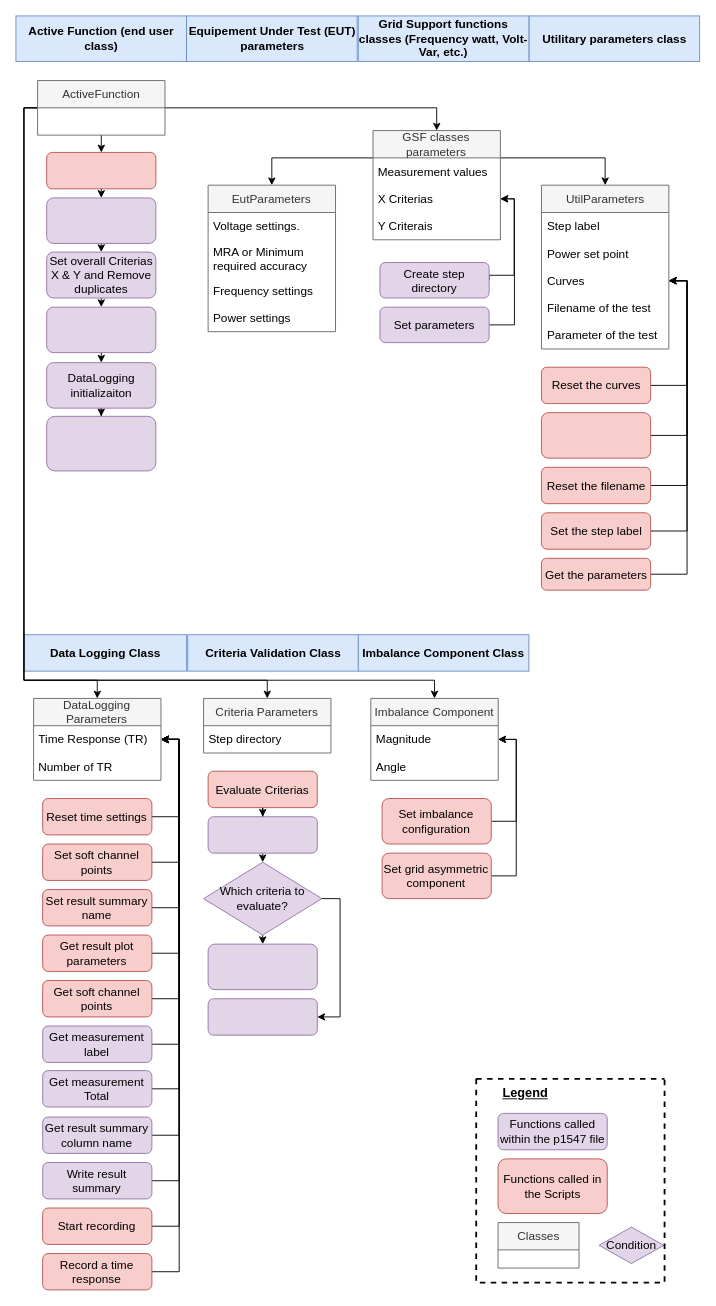
This 716x1306 diagram has some shape labels left out. Here are the shapes that lost their labels. From the top down, the centre of each, then its label:
point 101,170: ActiveFunction Init
point 101,220: CriteriaValidation Initialization
point 101,329: Grid-Support Functions Initalization
point 101,443: Imbalance Component initialization
point 596,435: Reset the power set point
point 262,834: Define target values
point 262,966: Open loop time response criteria
point 262,1016: Accuracy criteria
